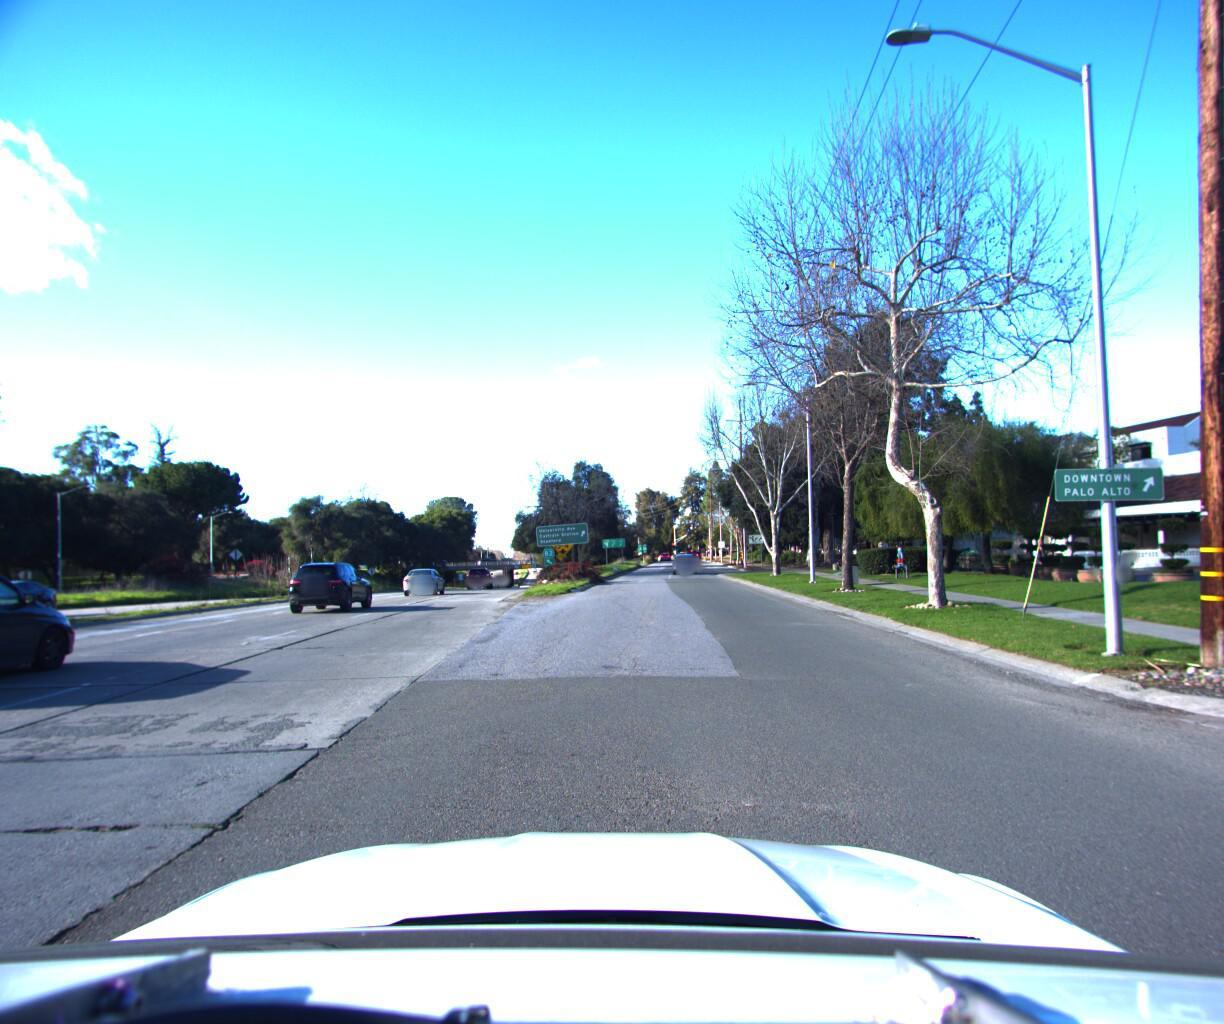car: (0, 546, 100, 723), (281, 558, 376, 613), (404, 563, 450, 594), (465, 560, 494, 583), (669, 548, 696, 571)
